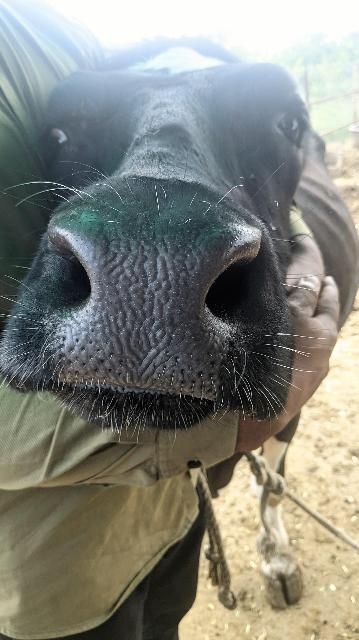Muzzle: (86, 238, 206, 394)
